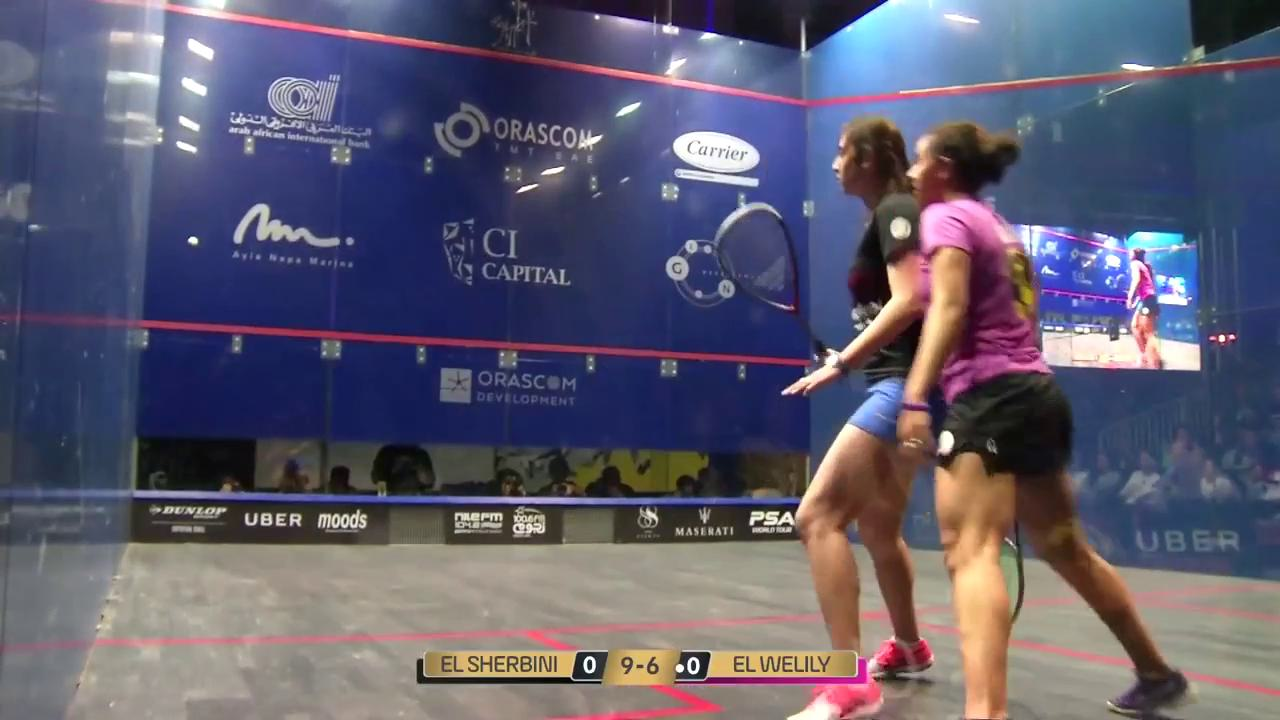normal: (726, 110, 1210, 720)
